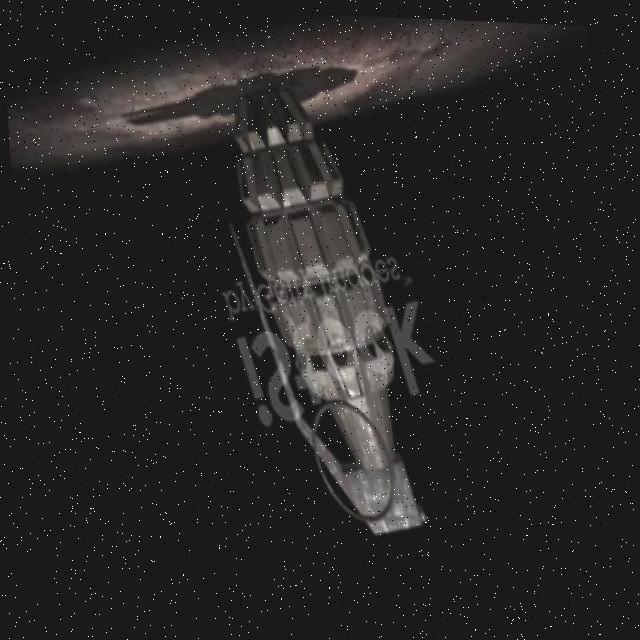grenade: (183, 58, 454, 563)
